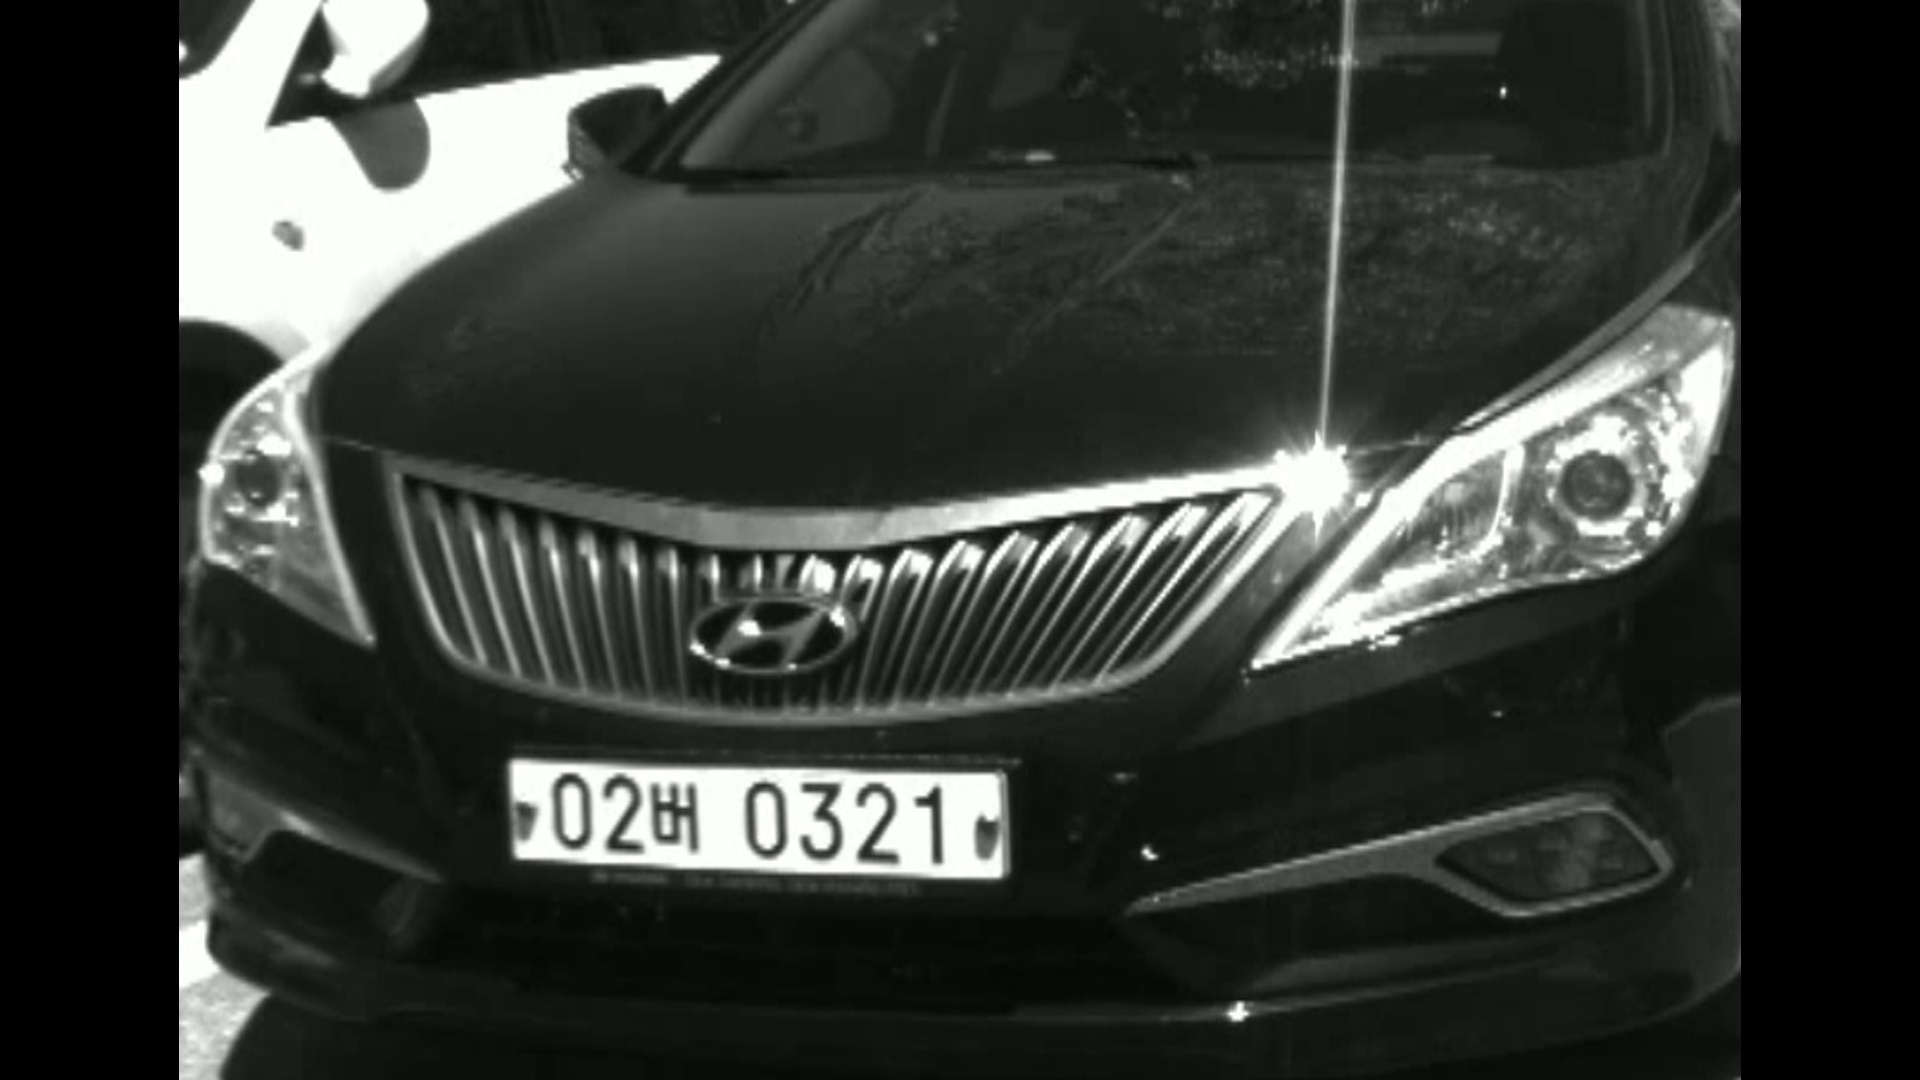license_plate: (502, 754, 1013, 892)
